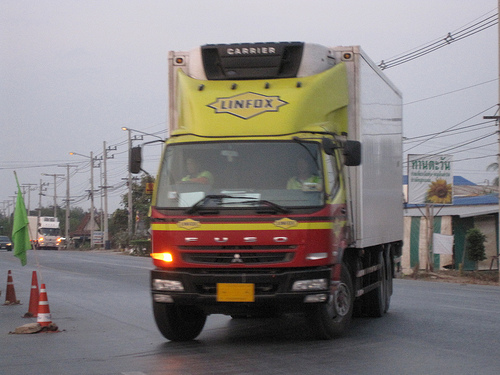truck: (143, 115, 358, 342)
